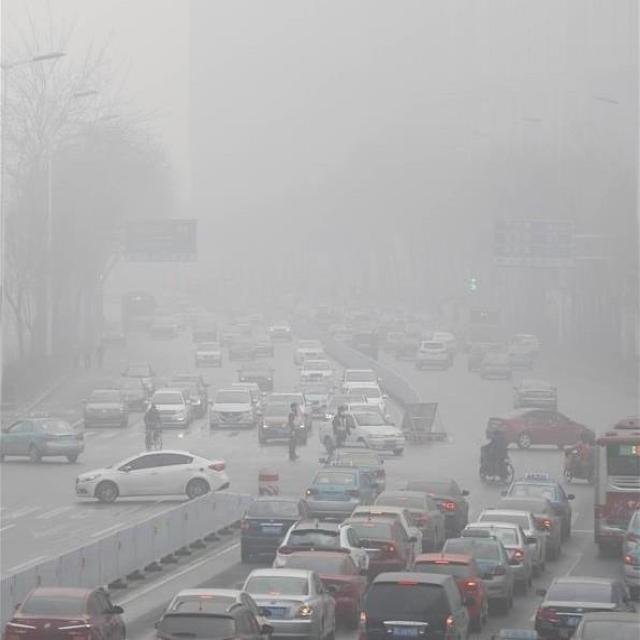Bus: (594, 414, 640, 559)
Car: (72, 449, 233, 504), (356, 574, 471, 640), (236, 570, 338, 640), (0, 585, 129, 640), (531, 574, 636, 640), (499, 470, 576, 538), (153, 598, 276, 640), (271, 518, 372, 568), (394, 478, 470, 539), (241, 496, 312, 560), (0, 412, 87, 462), (486, 410, 596, 448), (317, 410, 405, 456), (306, 468, 378, 523), (205, 390, 258, 430), (80, 388, 132, 428), (256, 404, 308, 444), (142, 389, 192, 430), (512, 378, 558, 414), (119, 362, 157, 395), (298, 359, 336, 388), (414, 341, 450, 371), (499, 346, 534, 372), (292, 338, 328, 362), (480, 354, 513, 378), (193, 341, 224, 366)
Cycle: (479, 454, 516, 486), (561, 466, 594, 485), (143, 433, 165, 451)
